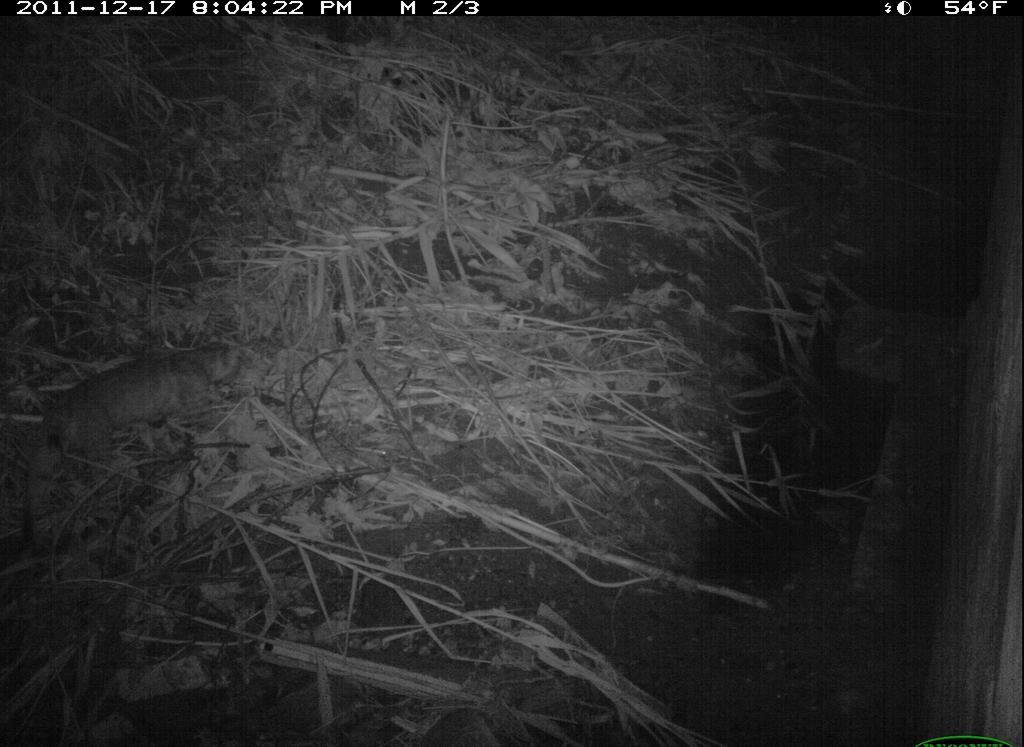bobcat: (44, 337, 263, 504)
